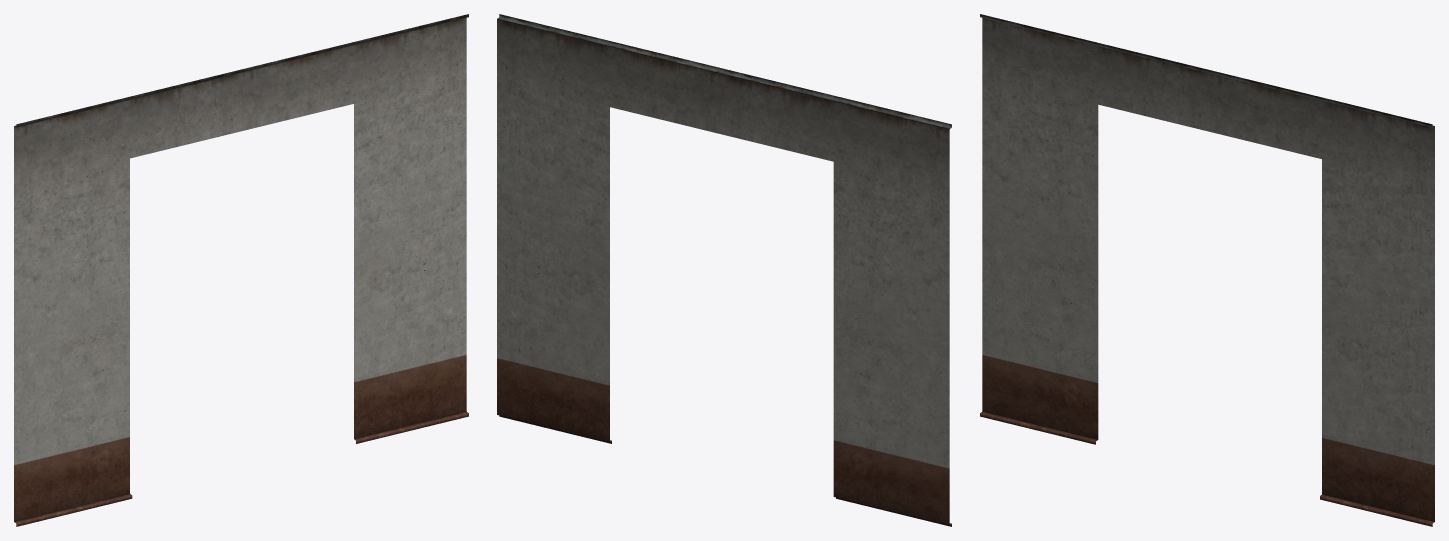
File: scanningroom_flat_doorway_scanroom.dae
The picture shows the model from 3 angles, left to right: view 1: azimuth 30°, elevation 25°; view 2: azimuth 150°, elevation 25°; view 3: azimuth 330°, elevation 25°; orthographic projection.
Parts seen in each view (by area): view 1: Mesh; view 2: Mesh; view 3: Mesh.
Part boxes in pixels (<box>): Mesh: <box>14,14,468,526</box>; Mesh: <box>497,14,951,526</box>; Mesh: <box>980,14,1434,526</box>.
Size of the model in its own units: 4 by 3.4 by 0.0341.
